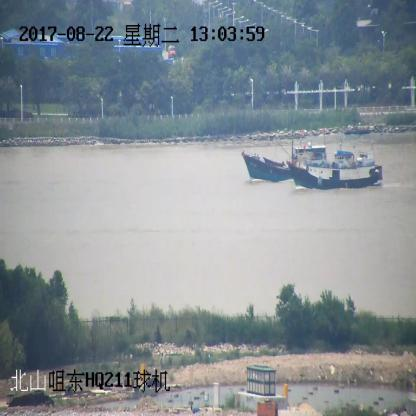Fishing Boat: (288, 150, 382, 191), (242, 143, 328, 182)
